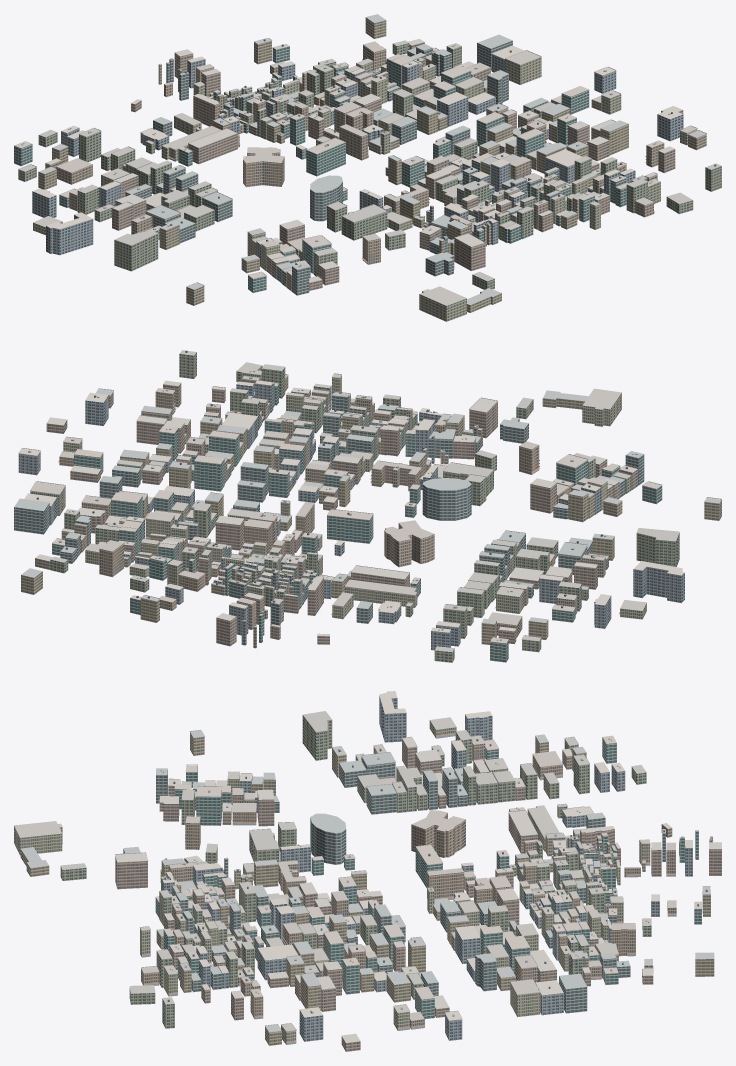
The picture shows the model from 3 angles, top to bottom: view 1: azimuth 30°, elevation 25°; view 2: azimuth 150°, elevation 25°; view 3: azimuth 270°, elevation 25°; orthographic projection. The views are drawn at different scales.
Parts seen in each view (by area): view 1: Station 5 surrounding real OSM building footprints; view 2: Station 5 surrounding real OSM building footprints; view 3: Station 5 surrounding real OSM building footprints.
Part boxes in pixels (x1,y1,x2,y2): Station 5 surrounding real OSM building footprints: (14,14,721,321); Station 5 surrounding real OSM building footprints: (14,350,721,662); Station 5 surrounding real OSM building footprints: (14,691,721,1051).
Bounding box in the file's own units: 712 × 31.65 × 641.
25 materials, 8 textured.
